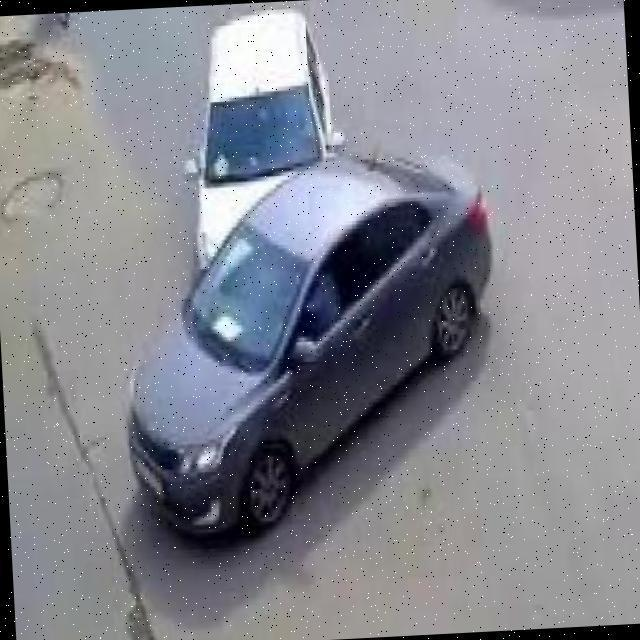accident: (103, 0, 510, 555)
